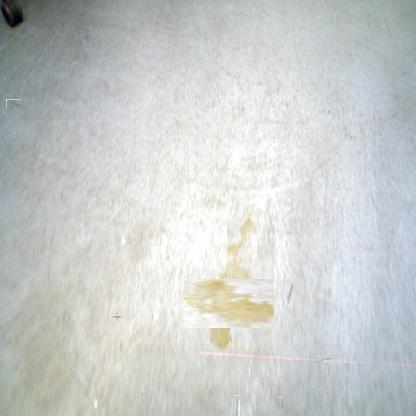liquid: (194, 268, 264, 338), (227, 217, 257, 258), (233, 395, 241, 416)
mark: (318, 350, 335, 368), (283, 278, 293, 307), (8, 98, 20, 109), (113, 311, 121, 321), (278, 397, 284, 410), (118, 340, 124, 352), (84, 33, 90, 39)
